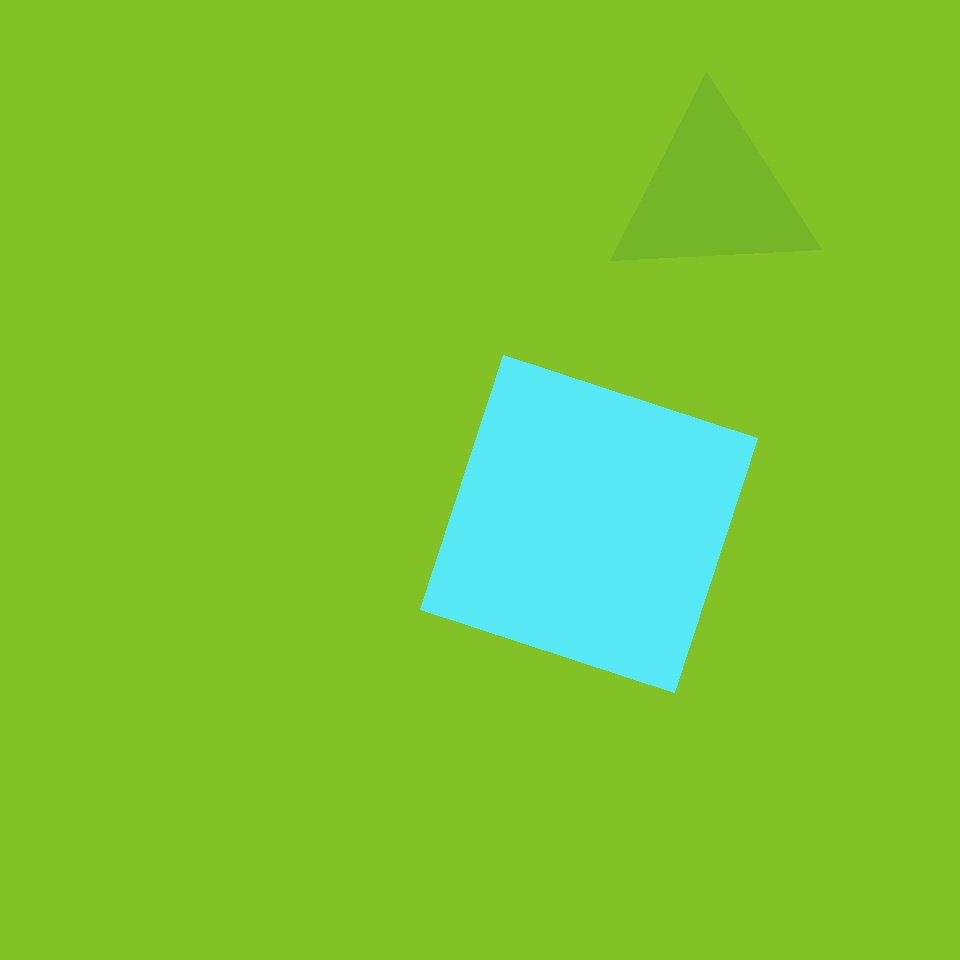circle: (192, 405, 415, 624), (608, 100, 818, 288), (528, 494, 693, 669)
square: (289, 577, 640, 928), (420, 355, 758, 692), (299, 398, 504, 604)
triangle: (153, 103, 519, 469), (250, 630, 541, 922), (241, 552, 516, 827), (521, 220, 792, 491), (827, 443, 944, 560), (606, 765, 700, 859)
